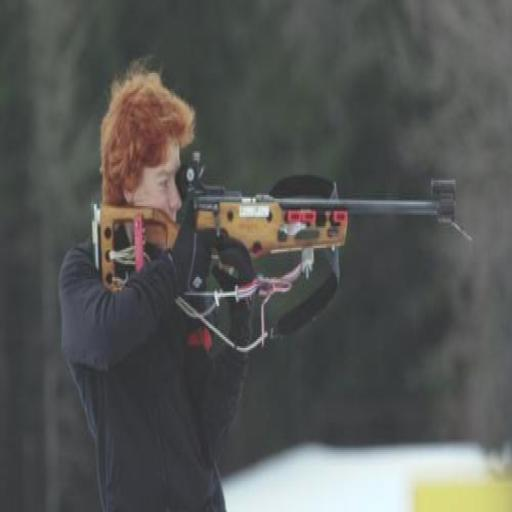shooting: (55, 55, 435, 501)
